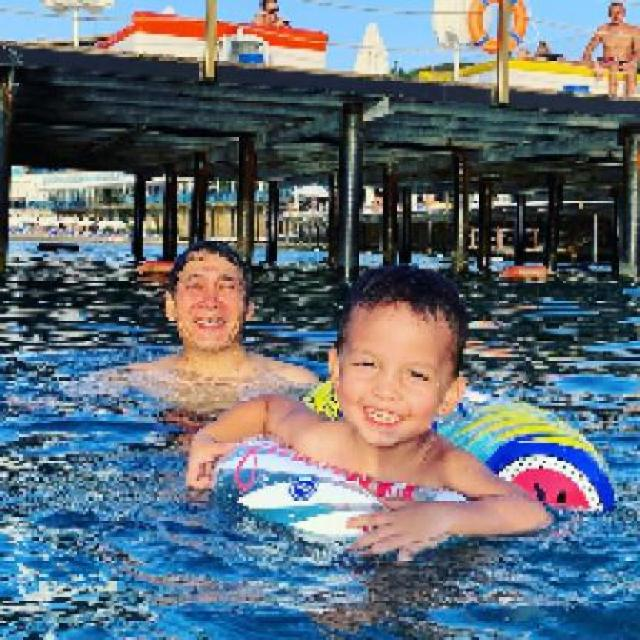child: (186, 262, 554, 558)
